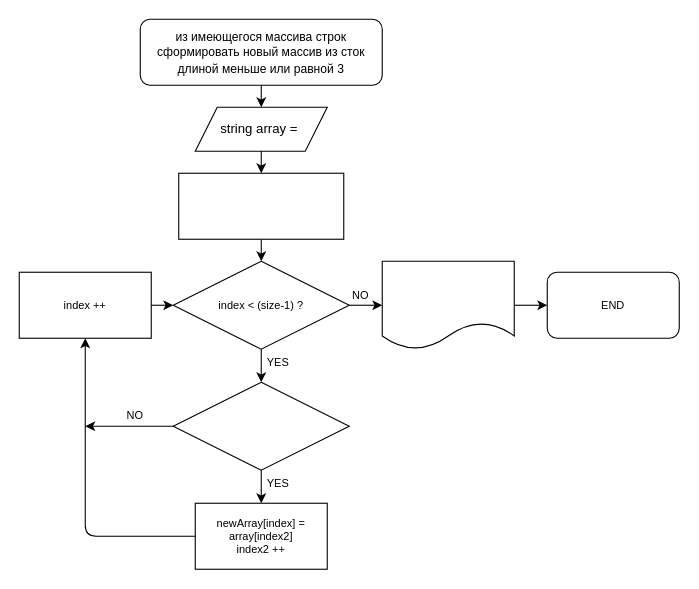
Image size: 699x589. Some labels were removed from this diagram. The box of each missing label's shape, as (x1, y1, x2, y2) in pixels:
array[index].Length <= 3 ?: (172, 381, 349, 470)
index = 0 index2 = 0 string [] newArray = new sring[0] size = array.length: (178, 172, 344, 239)
newArray: (381, 260, 514, 349)
